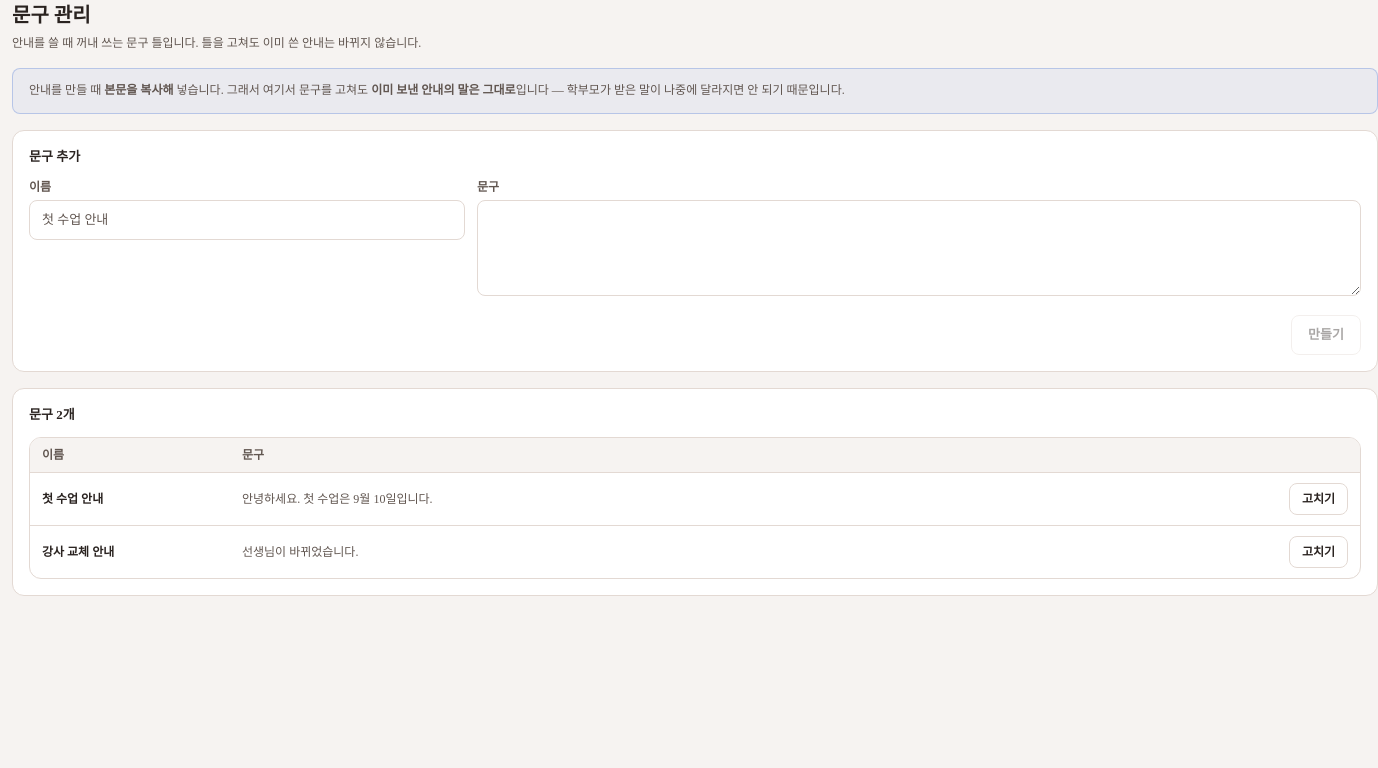
it: 이름과 문구가 비면 만들기를 누를 수 없다
The width and height of the screenshot is (1378, 768).
Expected: the text "첫 수업 안내" is shown, [42,492,103,506]
Expected: the button "만들기" is disabled, [1291,315,1361,355]
Type "보강 안내" into the field labelled "이름" at {"x": 247, "y": 220}, box [29,200,465,240]
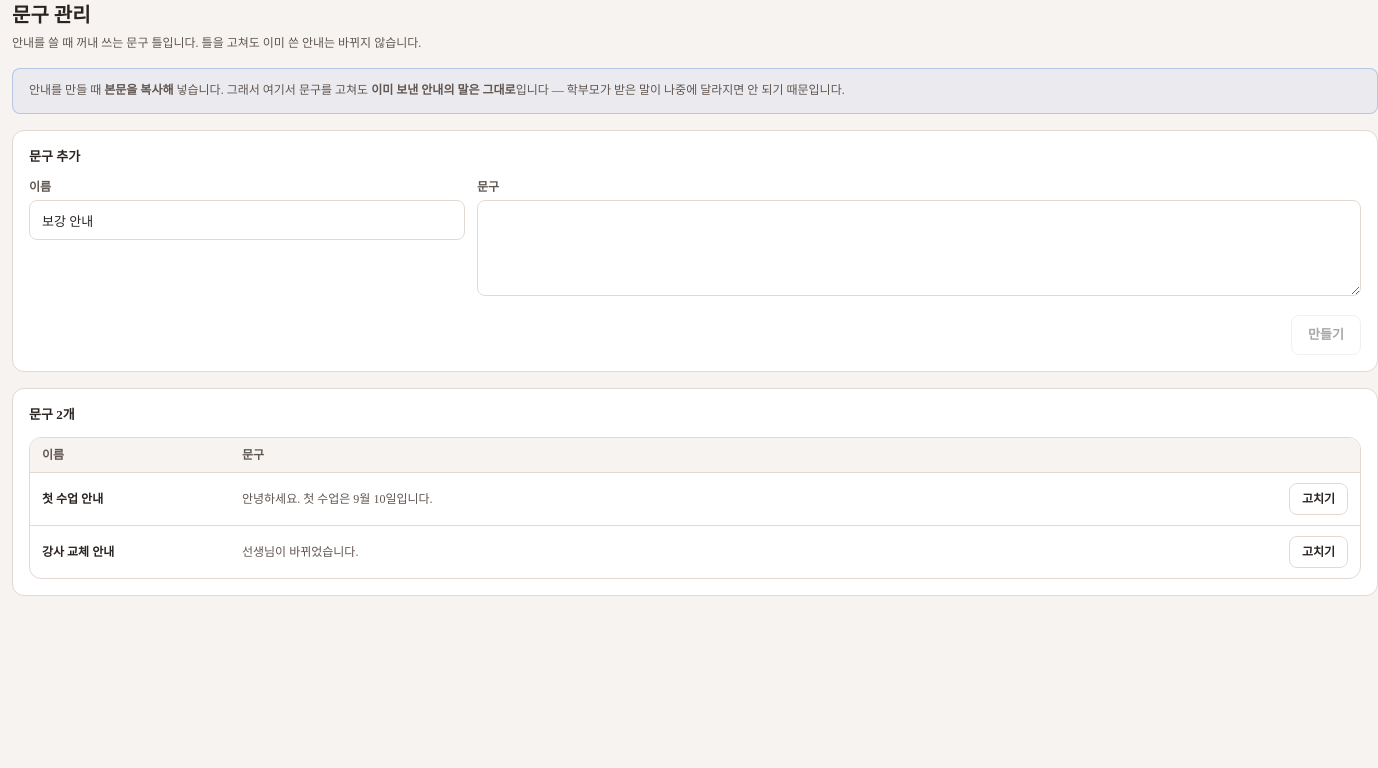
Expected: the button "만들기" is disabled, [1291,315,1361,355]
Type "보강은 토요일입니다" into the text box labelled "문구" at {"x": 919, "y": 248}, box [477,200,1361,296]
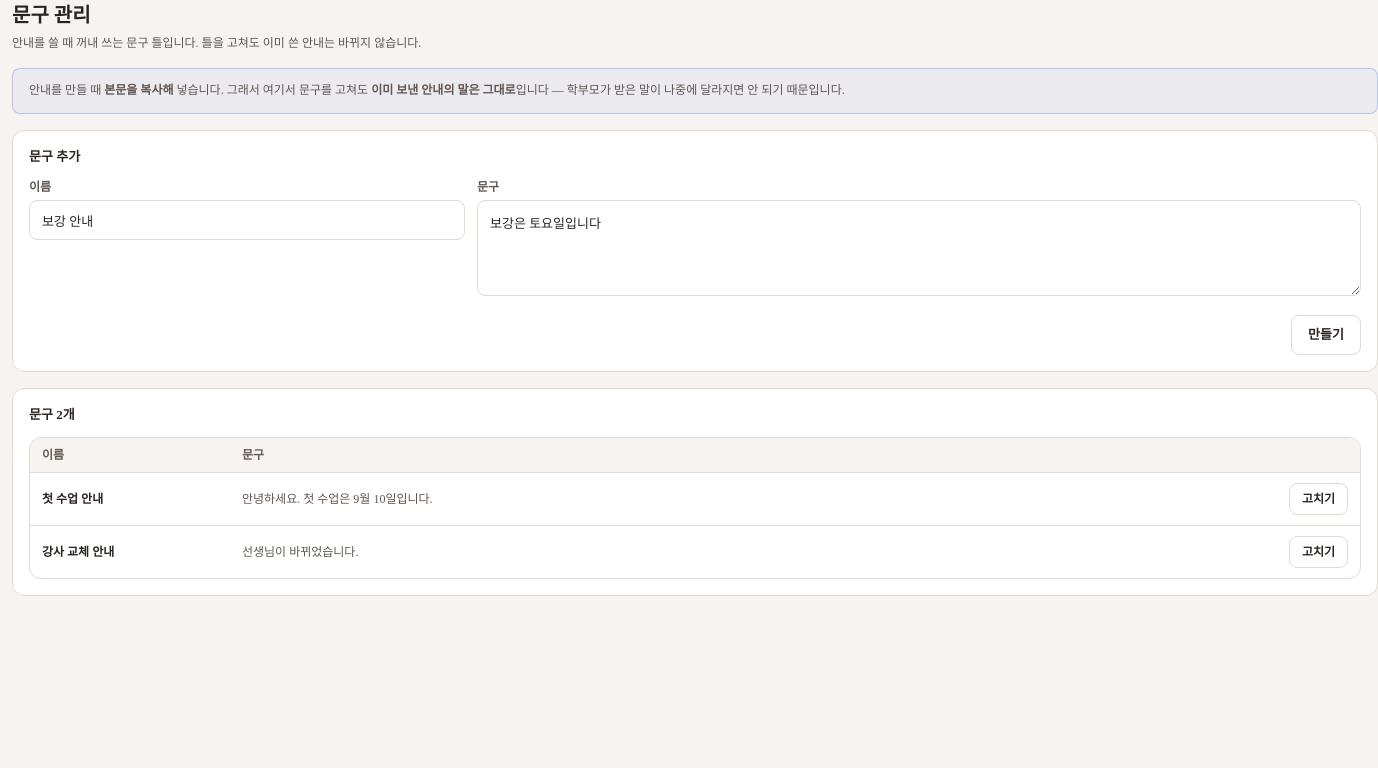
Now the button "만들기" is enabled, box [1291,315,1361,355]
